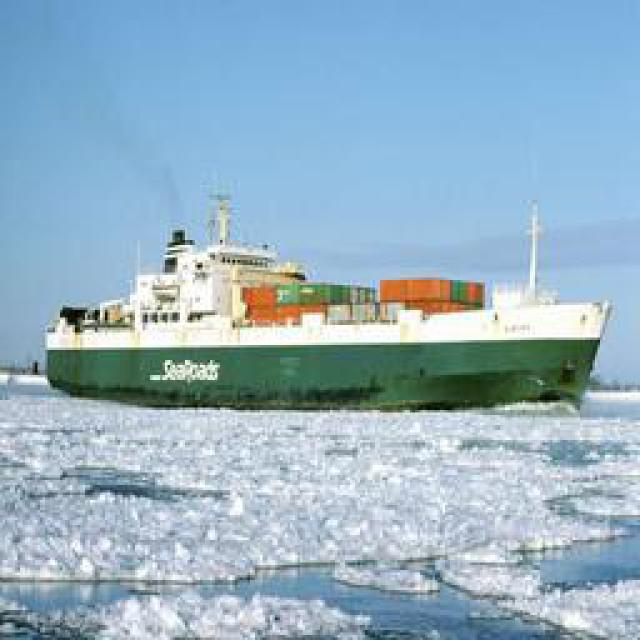Ship: (52, 188, 592, 413)
